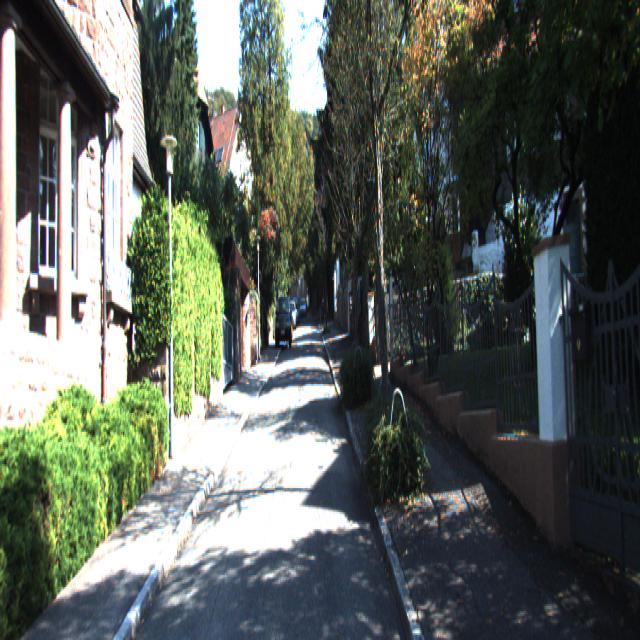Car: (275, 294, 292, 351), (288, 300, 298, 330)
